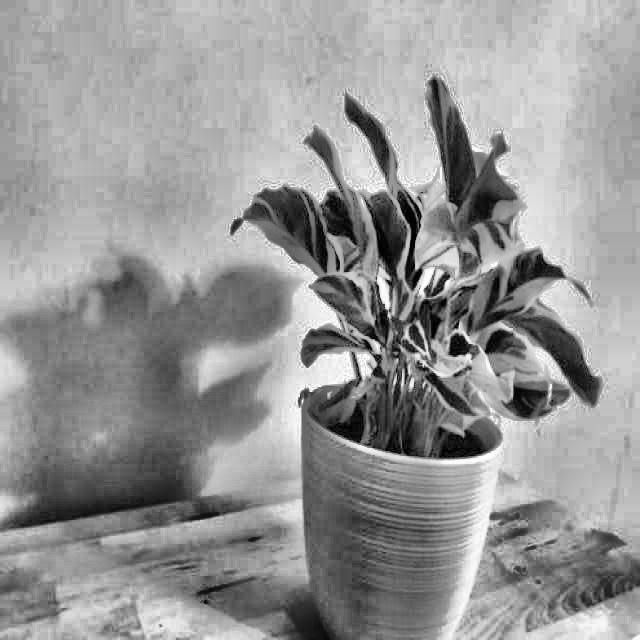plants: (246, 76, 602, 638), (454, 170, 584, 452)
